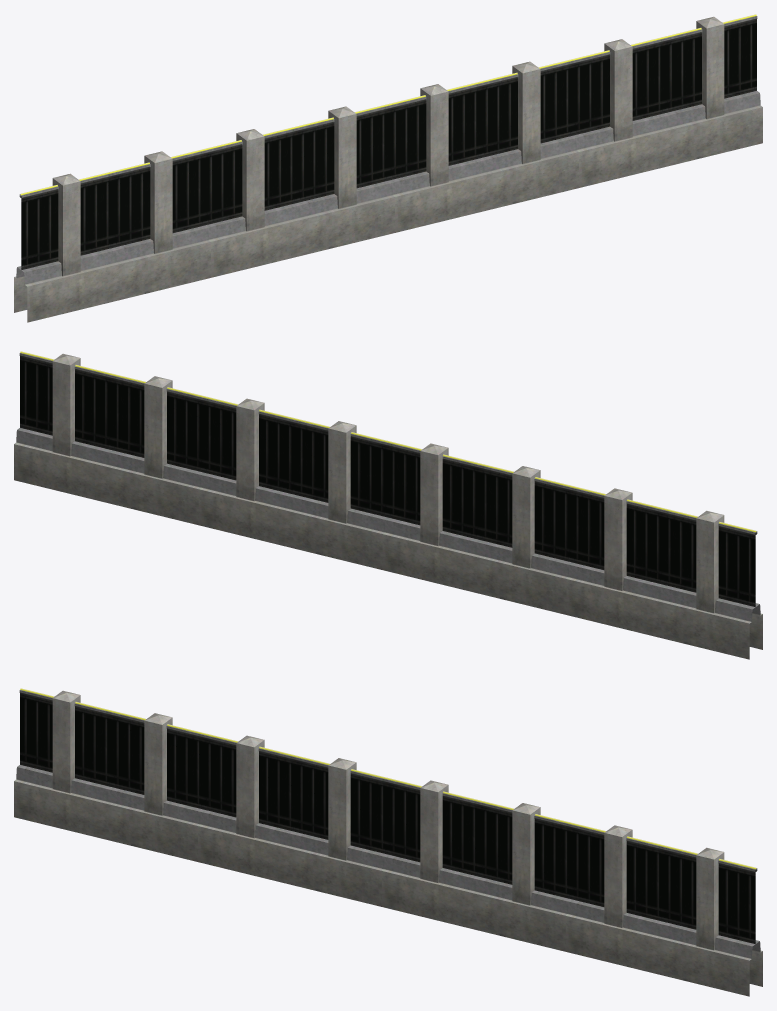
The model's file is thm_corl_imprv_wall_4x32_s02_l1.fbx.
3 renders of one model, top to bottom at view 1: azimuth 30°, elevation 25°; view 2: azimuth 150°, elevation 25°; view 3: azimuth 330°, elevation 25°, orthographic.
Visible parts, largest first — view 1: mesh_node; view 2: mesh_node; view 3: mesh_node.
Boxes of the visible parts, x1,y1,x2,y2 form: mesh_node: [14, 14, 762, 322]; mesh_node: [14, 351, 762, 659]; mesh_node: [14, 688, 762, 996].
Bounding box in the file's own units: 32 × 5.43 × 1.
